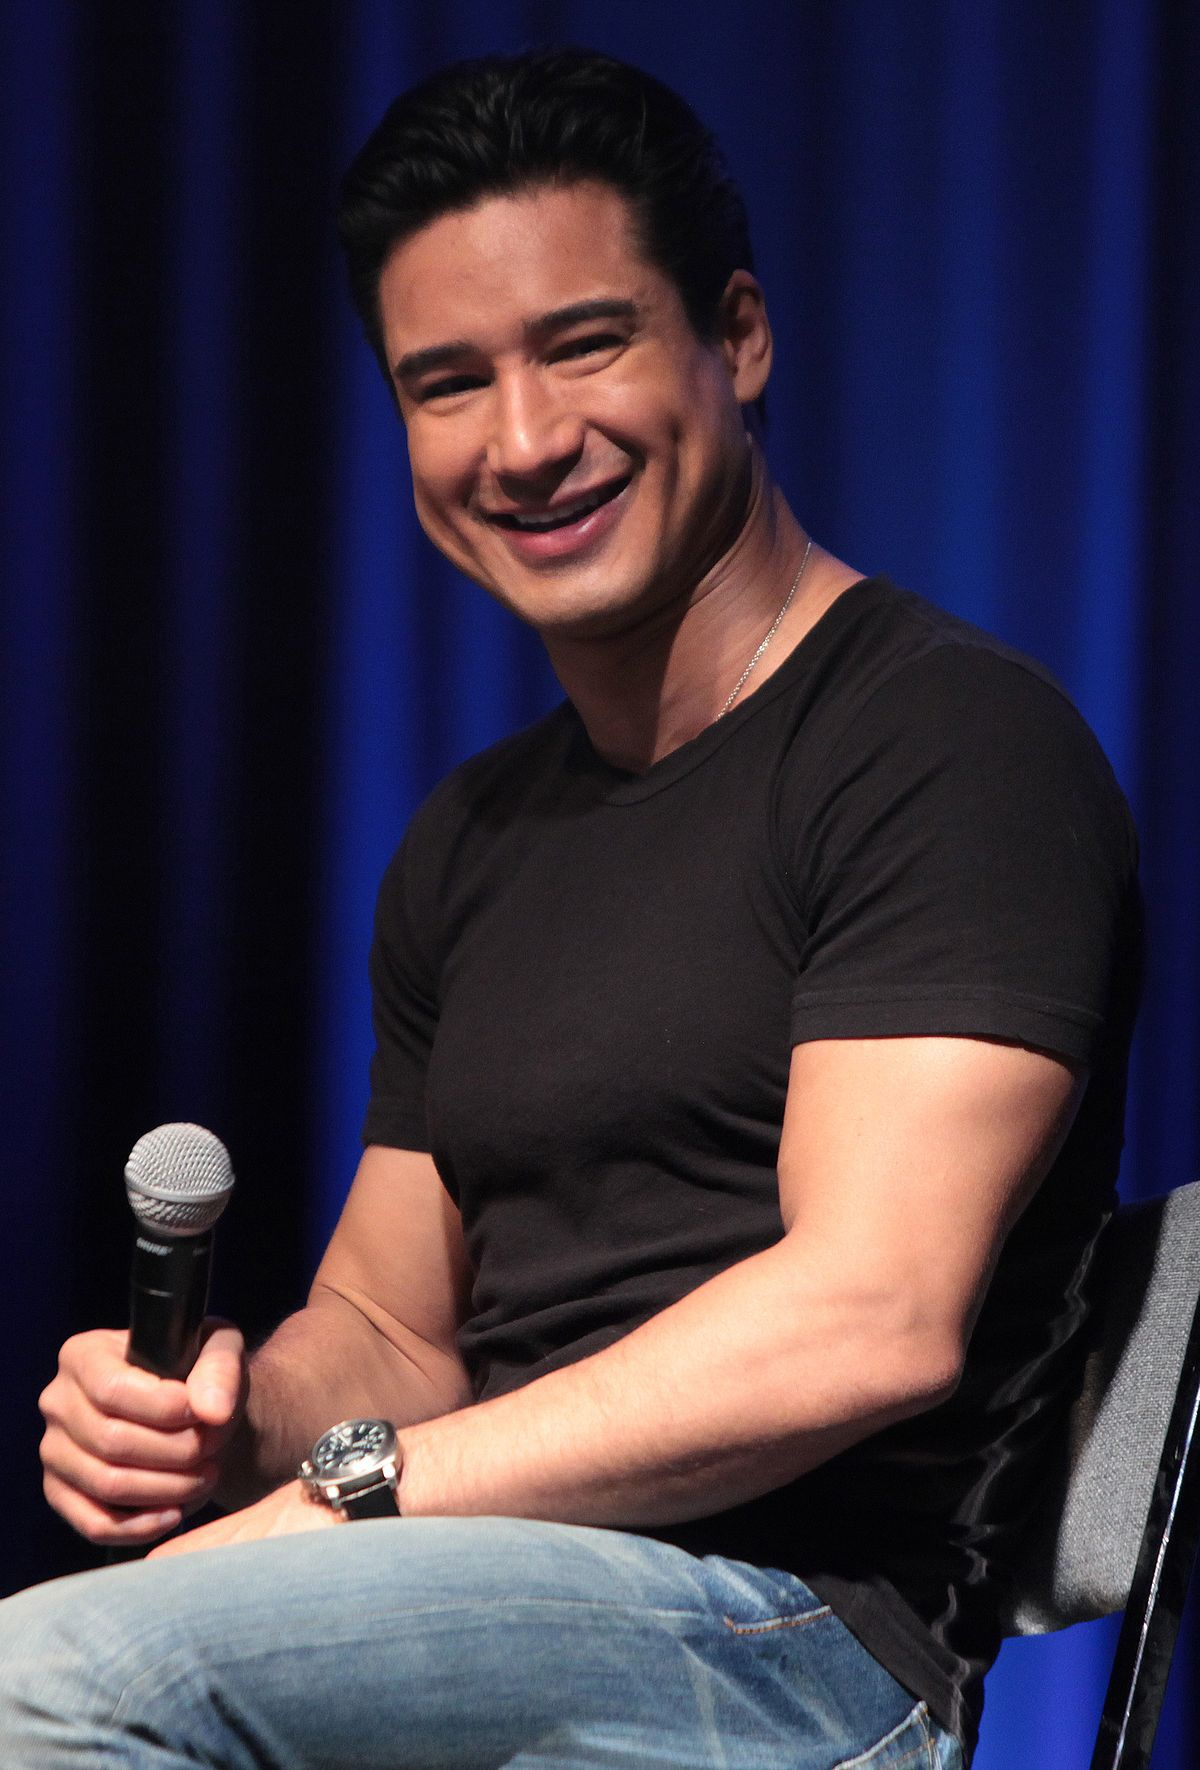bad: (384, 277, 704, 598)
